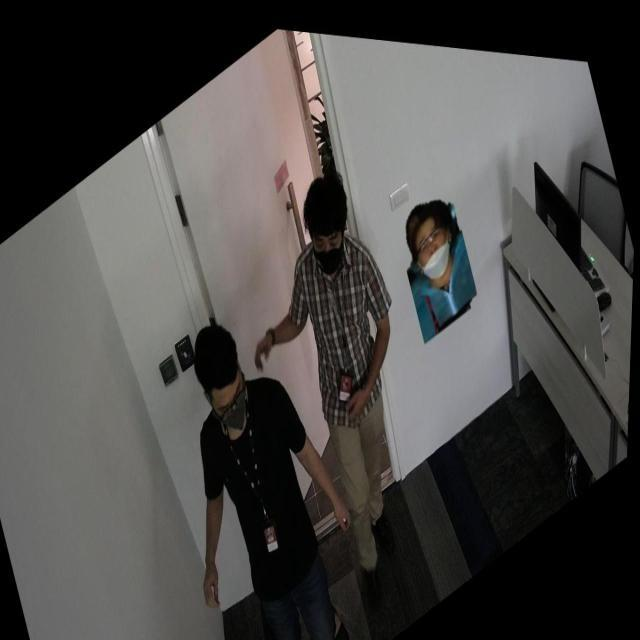hairnet: (414, 200, 458, 278)
